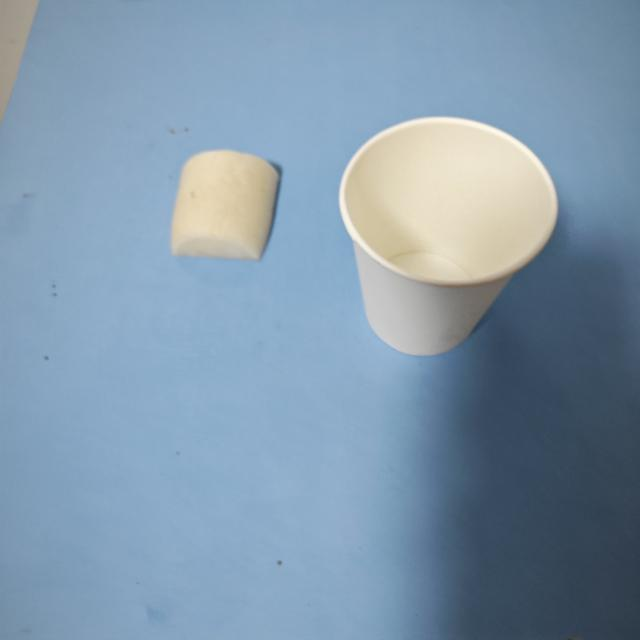-Kitchen waste - white radish-: (173, 148, 282, 262)
-Recyclables - paper cup-: (338, 117, 562, 355)
